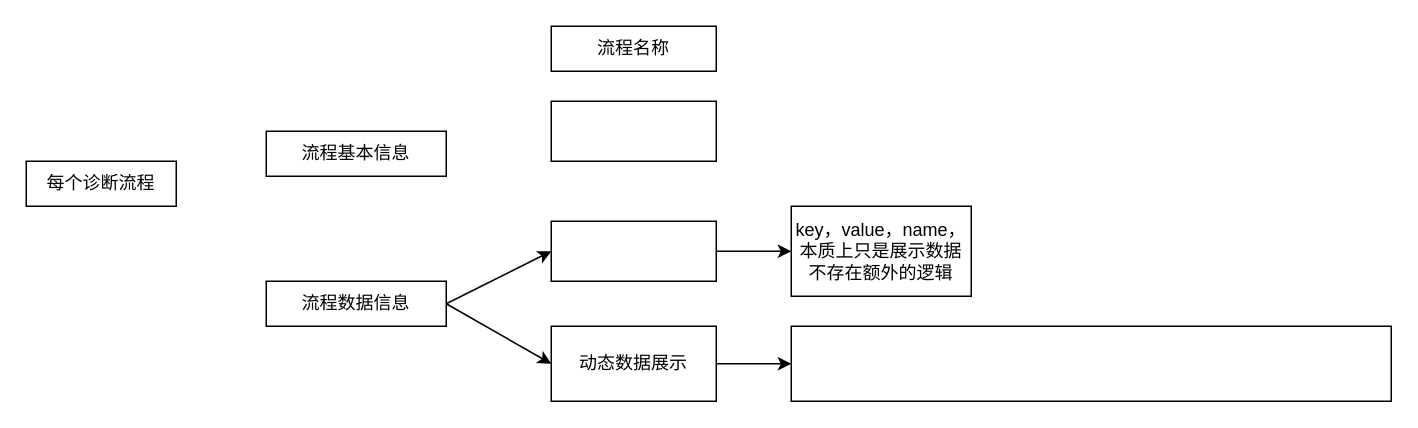
The diagram is 1418 pixels wide and 428 high, and some of its shapes have lost their labels. The centre of each missing label's shape, as x and y in pixels:
type（类型），time（时间），operator（操作人），behavior（行为） 根据类型来判断展示不同的弹窗: [1090,363]
流程: [633,130]
静态数据展示: [633,250]
